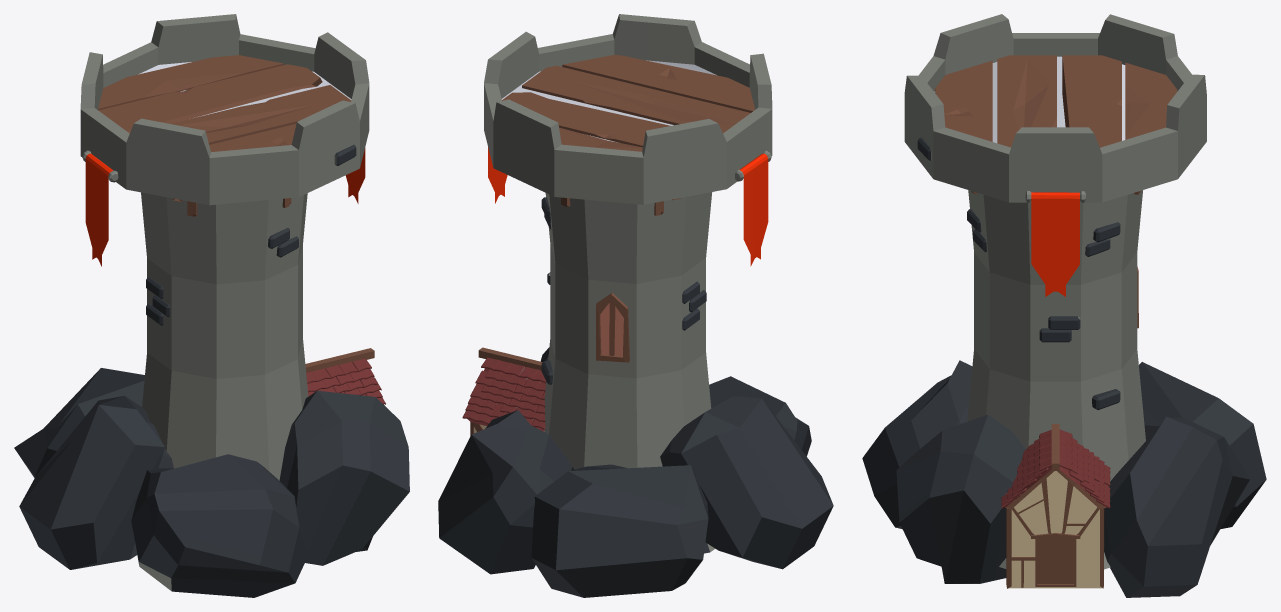
The model's file is default tower.fbx.
3 views of the same model, side by side, from view 1: azimuth 30°, elevation 25°; view 2: azimuth 150°, elevation 25°; view 3: azimuth 270°, elevation 25° (orthographic). The views are drawn at different scales.
Visible parts, largest first — view 1: Cube.116; view 2: Cube.116; view 3: Cube.116.
Boxes of the visible parts, bbox=[...] form: Cube.116: bbox=[14, 14, 409, 597]; Cube.116: bbox=[438, 14, 833, 597]; Cube.116: bbox=[862, 14, 1266, 597].
Bounding box in the file's own units: 3.17 × 4.25 × 3.22.
